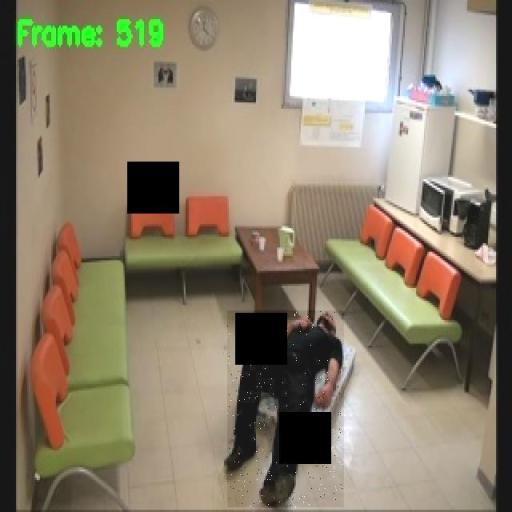Fall: (227, 311, 344, 508)
